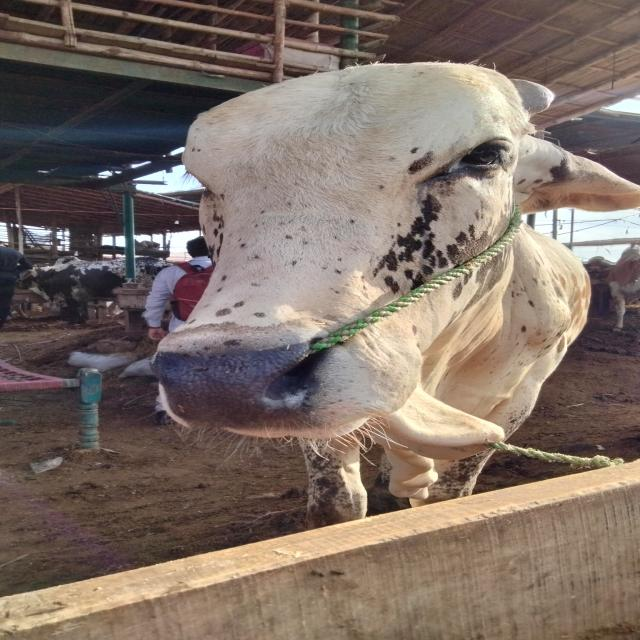muzzles: (125, 323, 348, 441)
